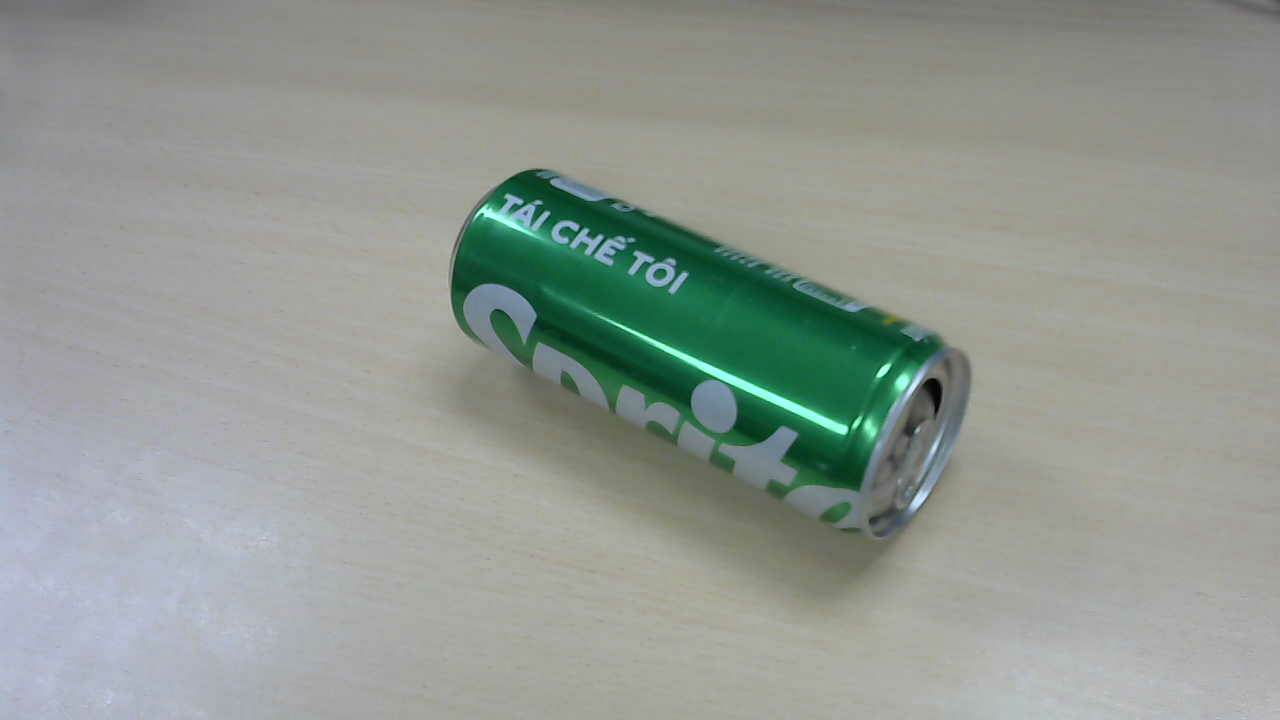Sprite: (450, 170, 973, 550)
